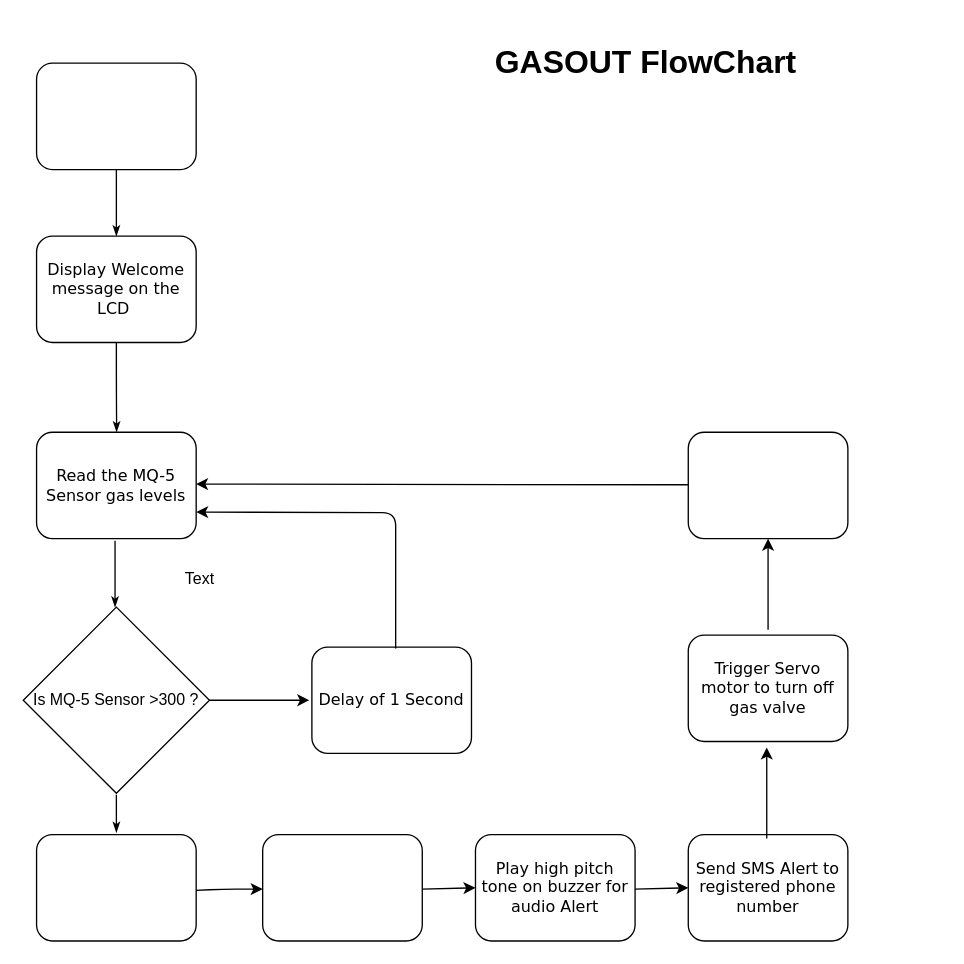
The diagram is 964 pixels wide and 964 high, and some of its shapes have lost their labels. Here are the shapes that lost their labels. From the top down, the box of each, then its label:
(35, 62, 196, 170): Initial Pin Mapping
(687, 431, 848, 539): Delay of 3 Seconds
(35, 833, 196, 941): Display warning message on LCD
(261, 833, 422, 941): Display Gas Leakage Detected
